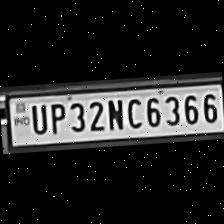2: (85, 96, 105, 130)
3: (65, 98, 85, 132), (160, 91, 180, 125)
6: (141, 92, 161, 126), (179, 90, 199, 124), (198, 88, 218, 122)
C: (124, 94, 142, 128)
N: (103, 95, 123, 129)
P: (46, 99, 66, 133)
U: (26, 100, 48, 132)
